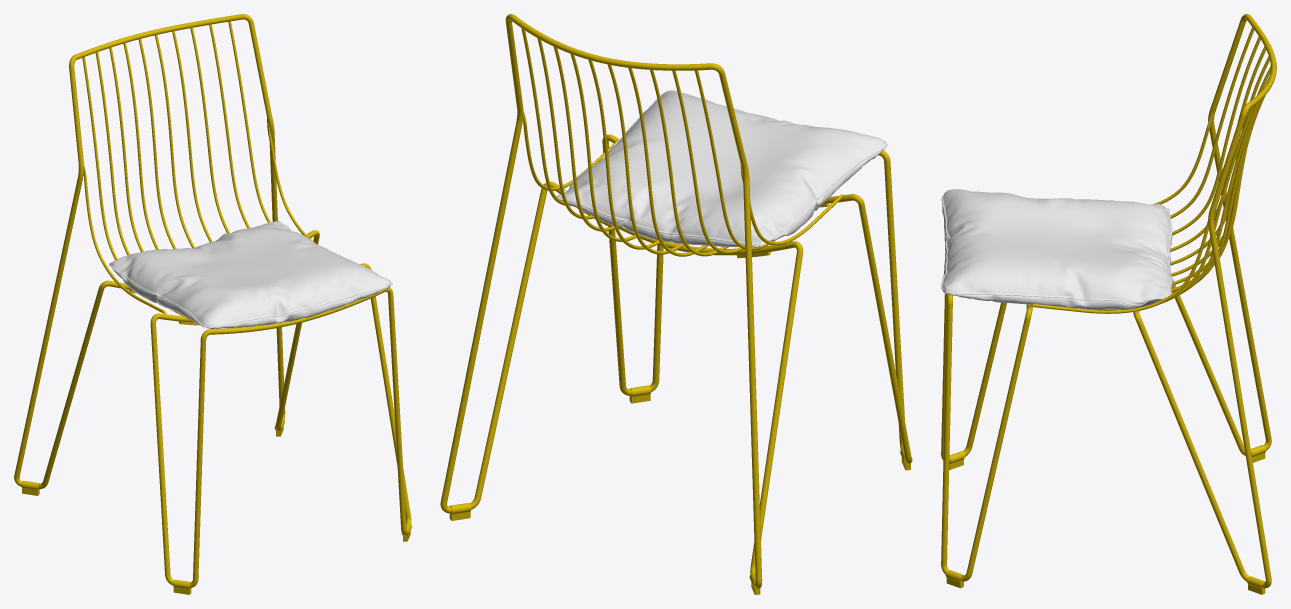
The model's file is massproductions_tio_chair004.fbx.
3 views of the same model, side by side, from view 1: azimuth 30°, elevation 25°; view 2: azimuth 150°, elevation 25°; view 3: azimuth 270°, elevation 25° (orthographic). The views are drawn at different scales.
Visible parts, largest first — view 1: massproductions_tio_chair004, Cube; view 2: massproductions_tio_chair004, Cube; view 3: Cube, massproductions_tio_chair004.
Part boxes in pixels (box(x1,y1,x2,y2)): massproductions_tio_chair004: box(14, 14, 411, 594); Cube: box(109, 221, 392, 328); massproductions_tio_chair004: box(440, 14, 912, 594); Cube: box(556, 90, 887, 247); Cube: box(941, 189, 1172, 310); massproductions_tio_chair004: box(941, 14, 1276, 594).
Size of the model in its own units: 50.84 by 77.56 by 50.56.
